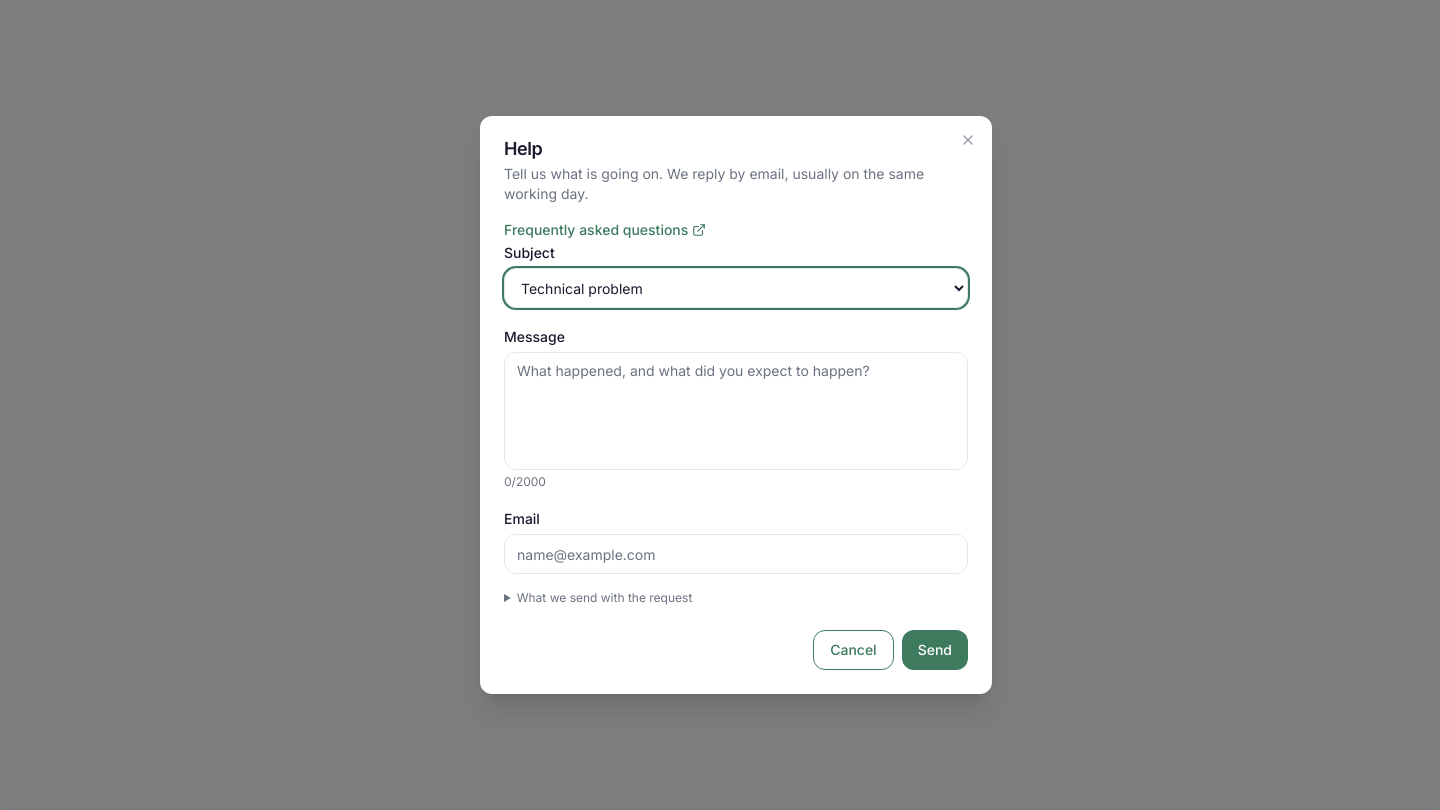
it: HelpDialog — in English (B65) › explains a failed send and a bad email in English
The image size is (1440, 810).
Type "O botão de pagamento não faz nada quando clico, já tentei duas vezes." into the text box labelled "Message".
click(736, 411); type("O botão de pagamento não faz nada quando clico, já tentei duas vezes.")  # box [504,352,968,470]
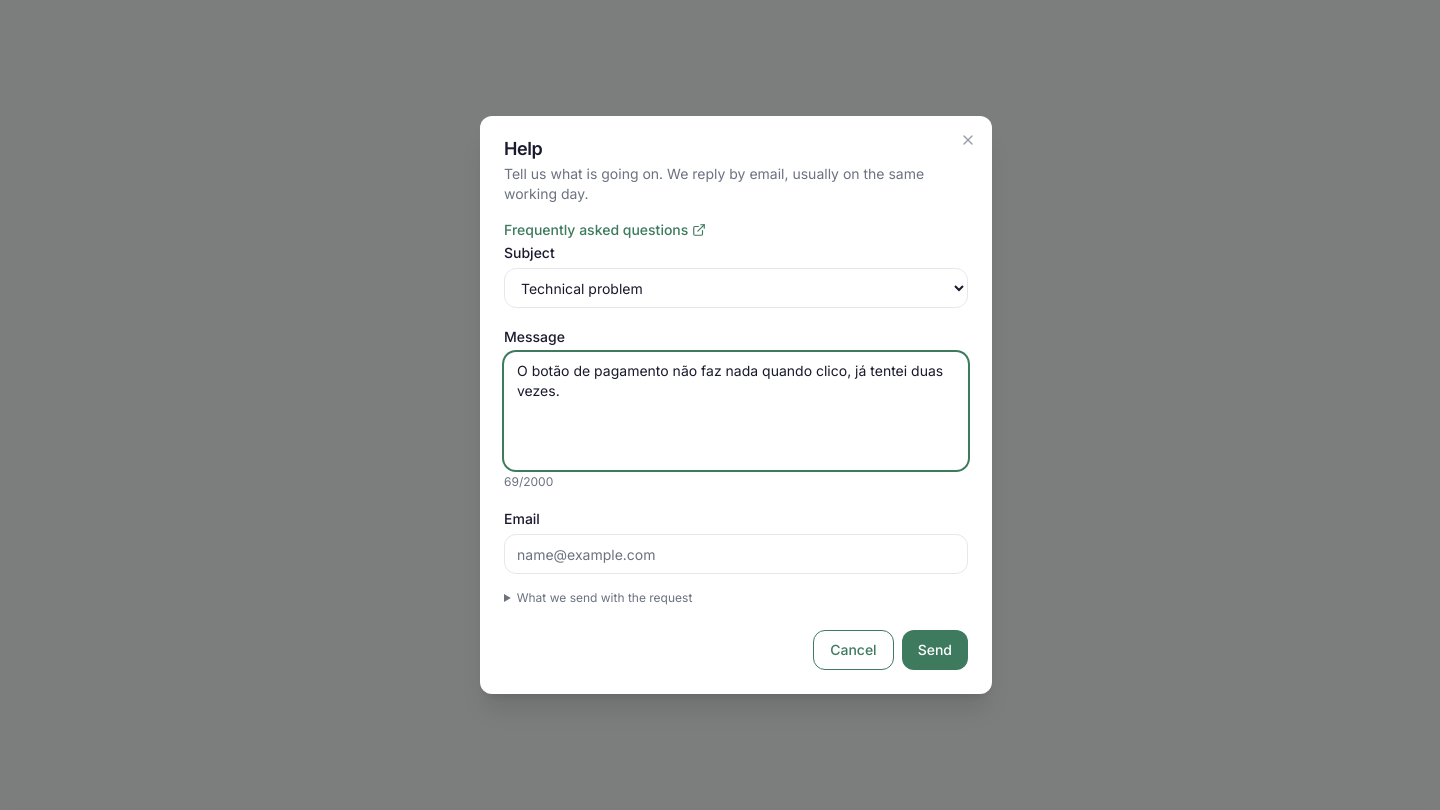
Click the button "Send".
click(935, 650)  # box [902,630,968,670]
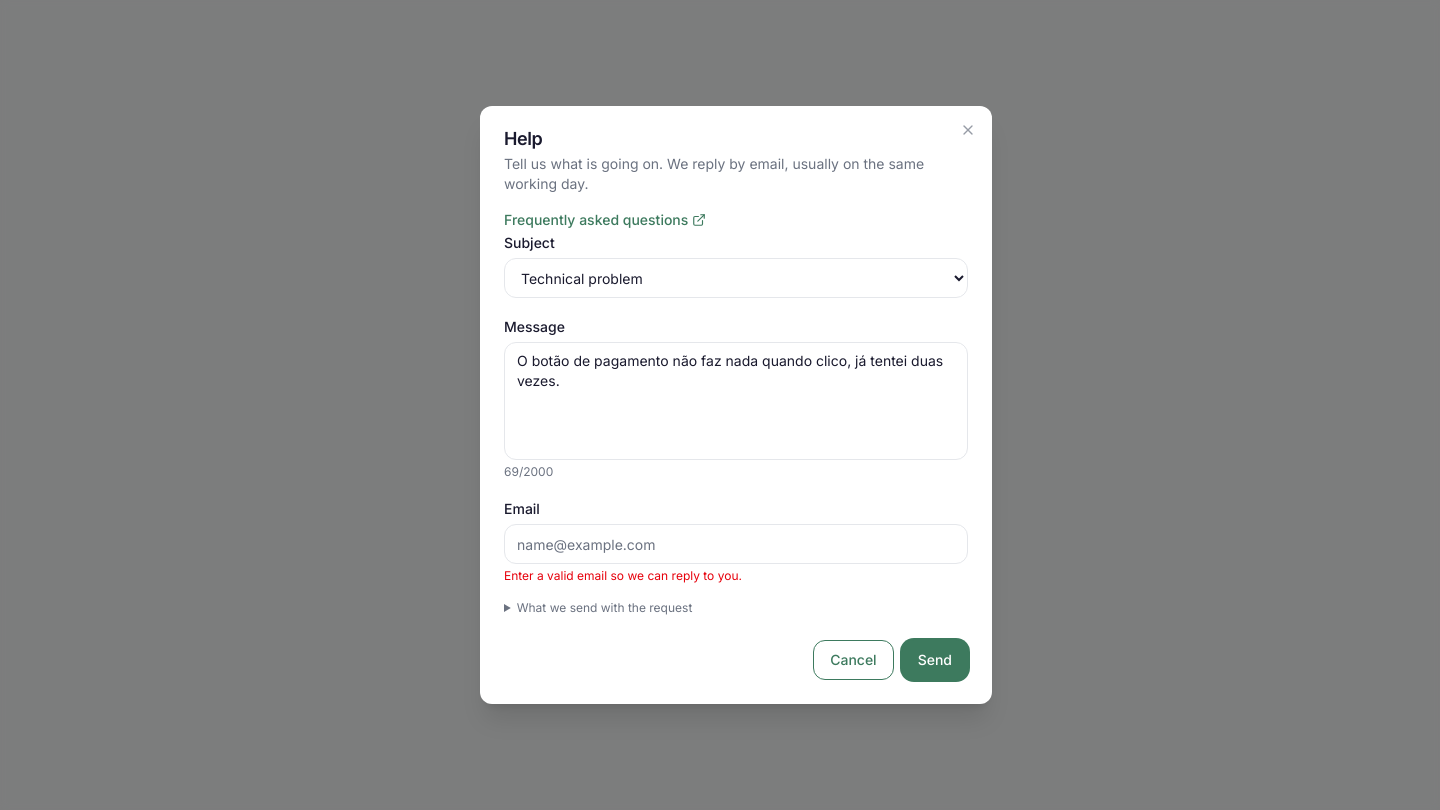
expect the message reads "Enter a valid email so we can reply to you.": met, box [504,568,742,583]
Type "visitante@example.com" into the field labelled "Email".
click(736, 544); type("visitante@example.com")  # box [504,524,968,564]
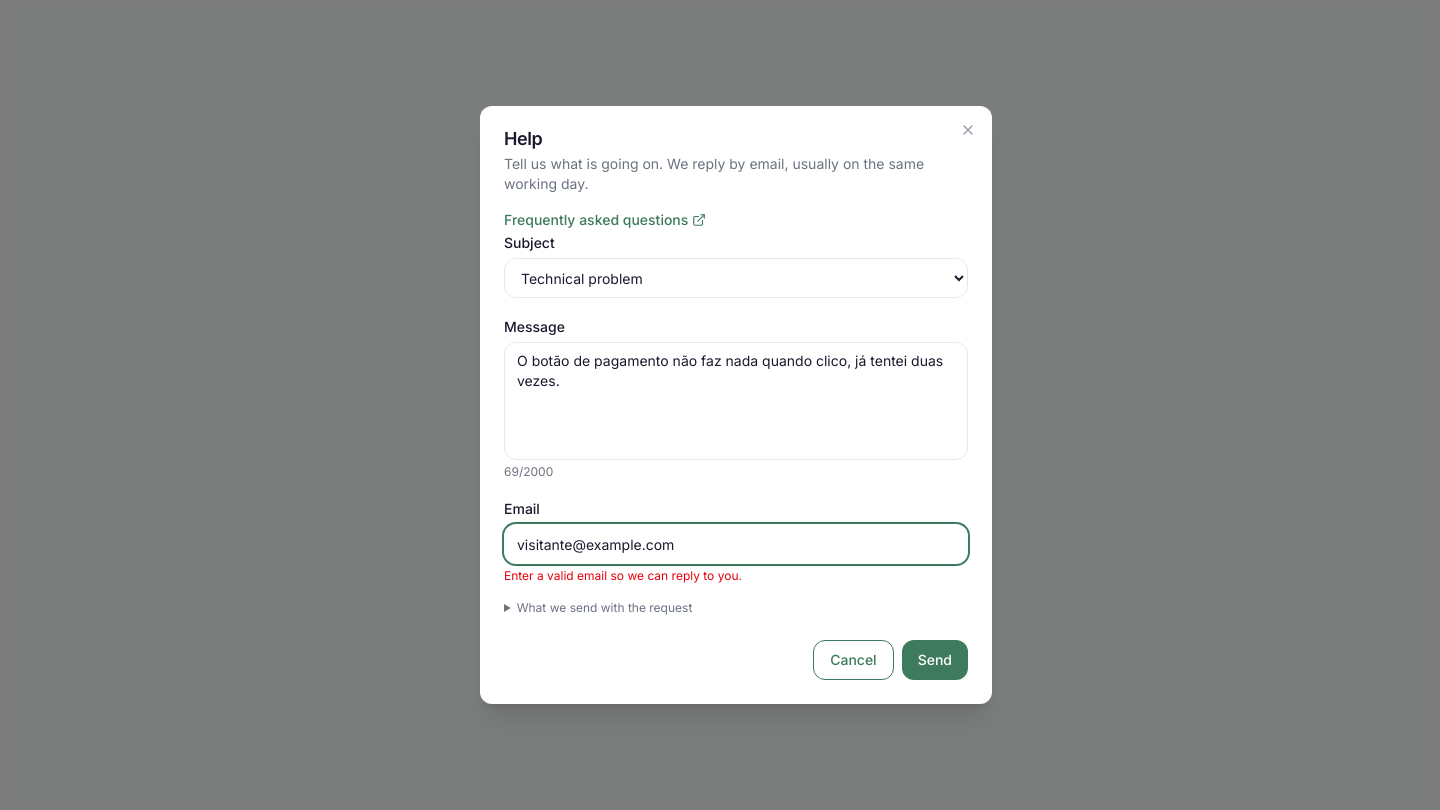
Click the button "Send".
click(935, 660)  # box [902,640,968,680]
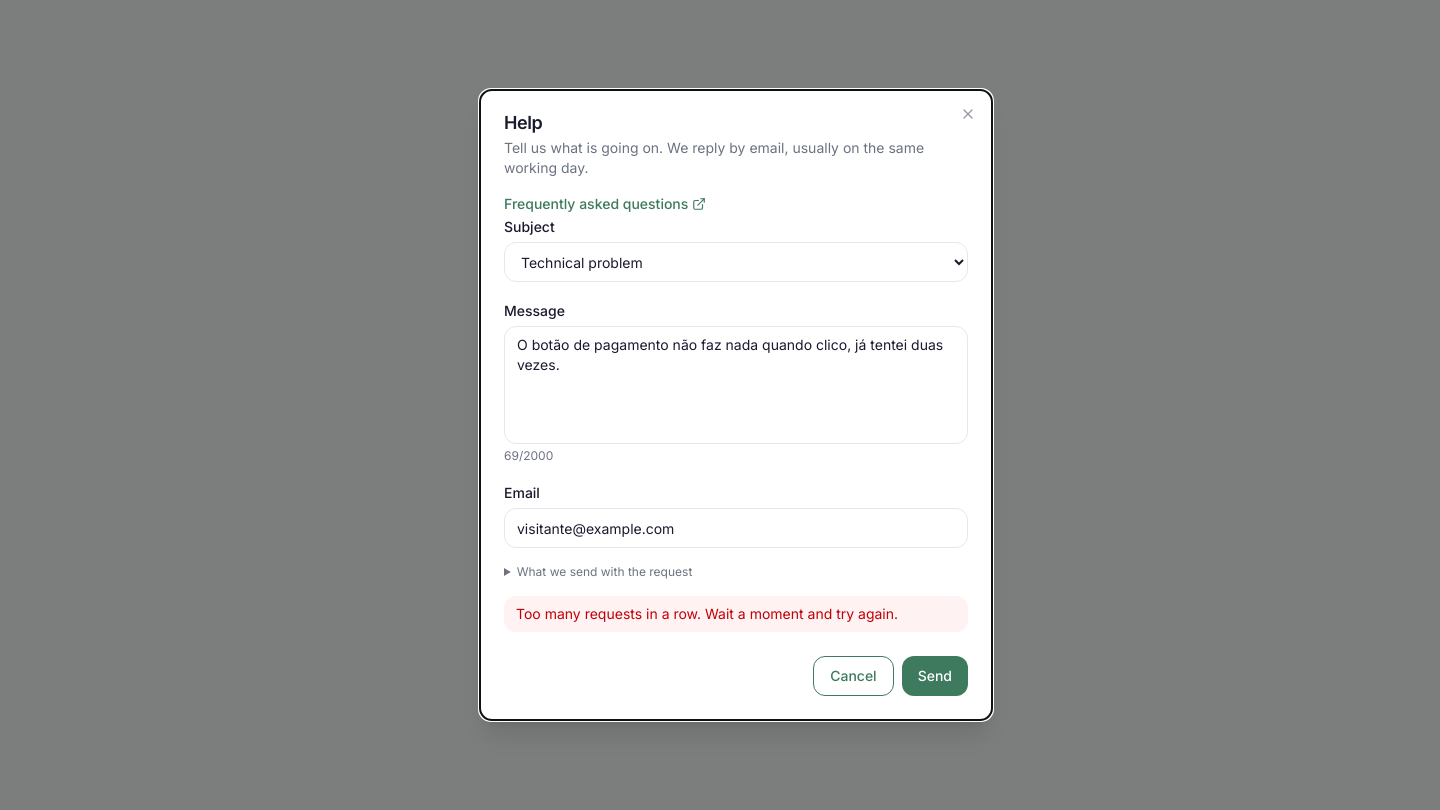
expect the message reads "Too many requests in a row. Wait a moment and try again.": met, box [516,605,898,622]
